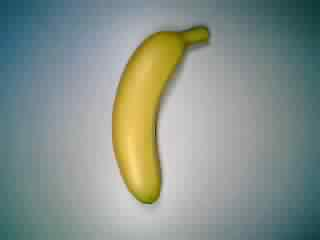banana: (109, 20, 210, 208)
